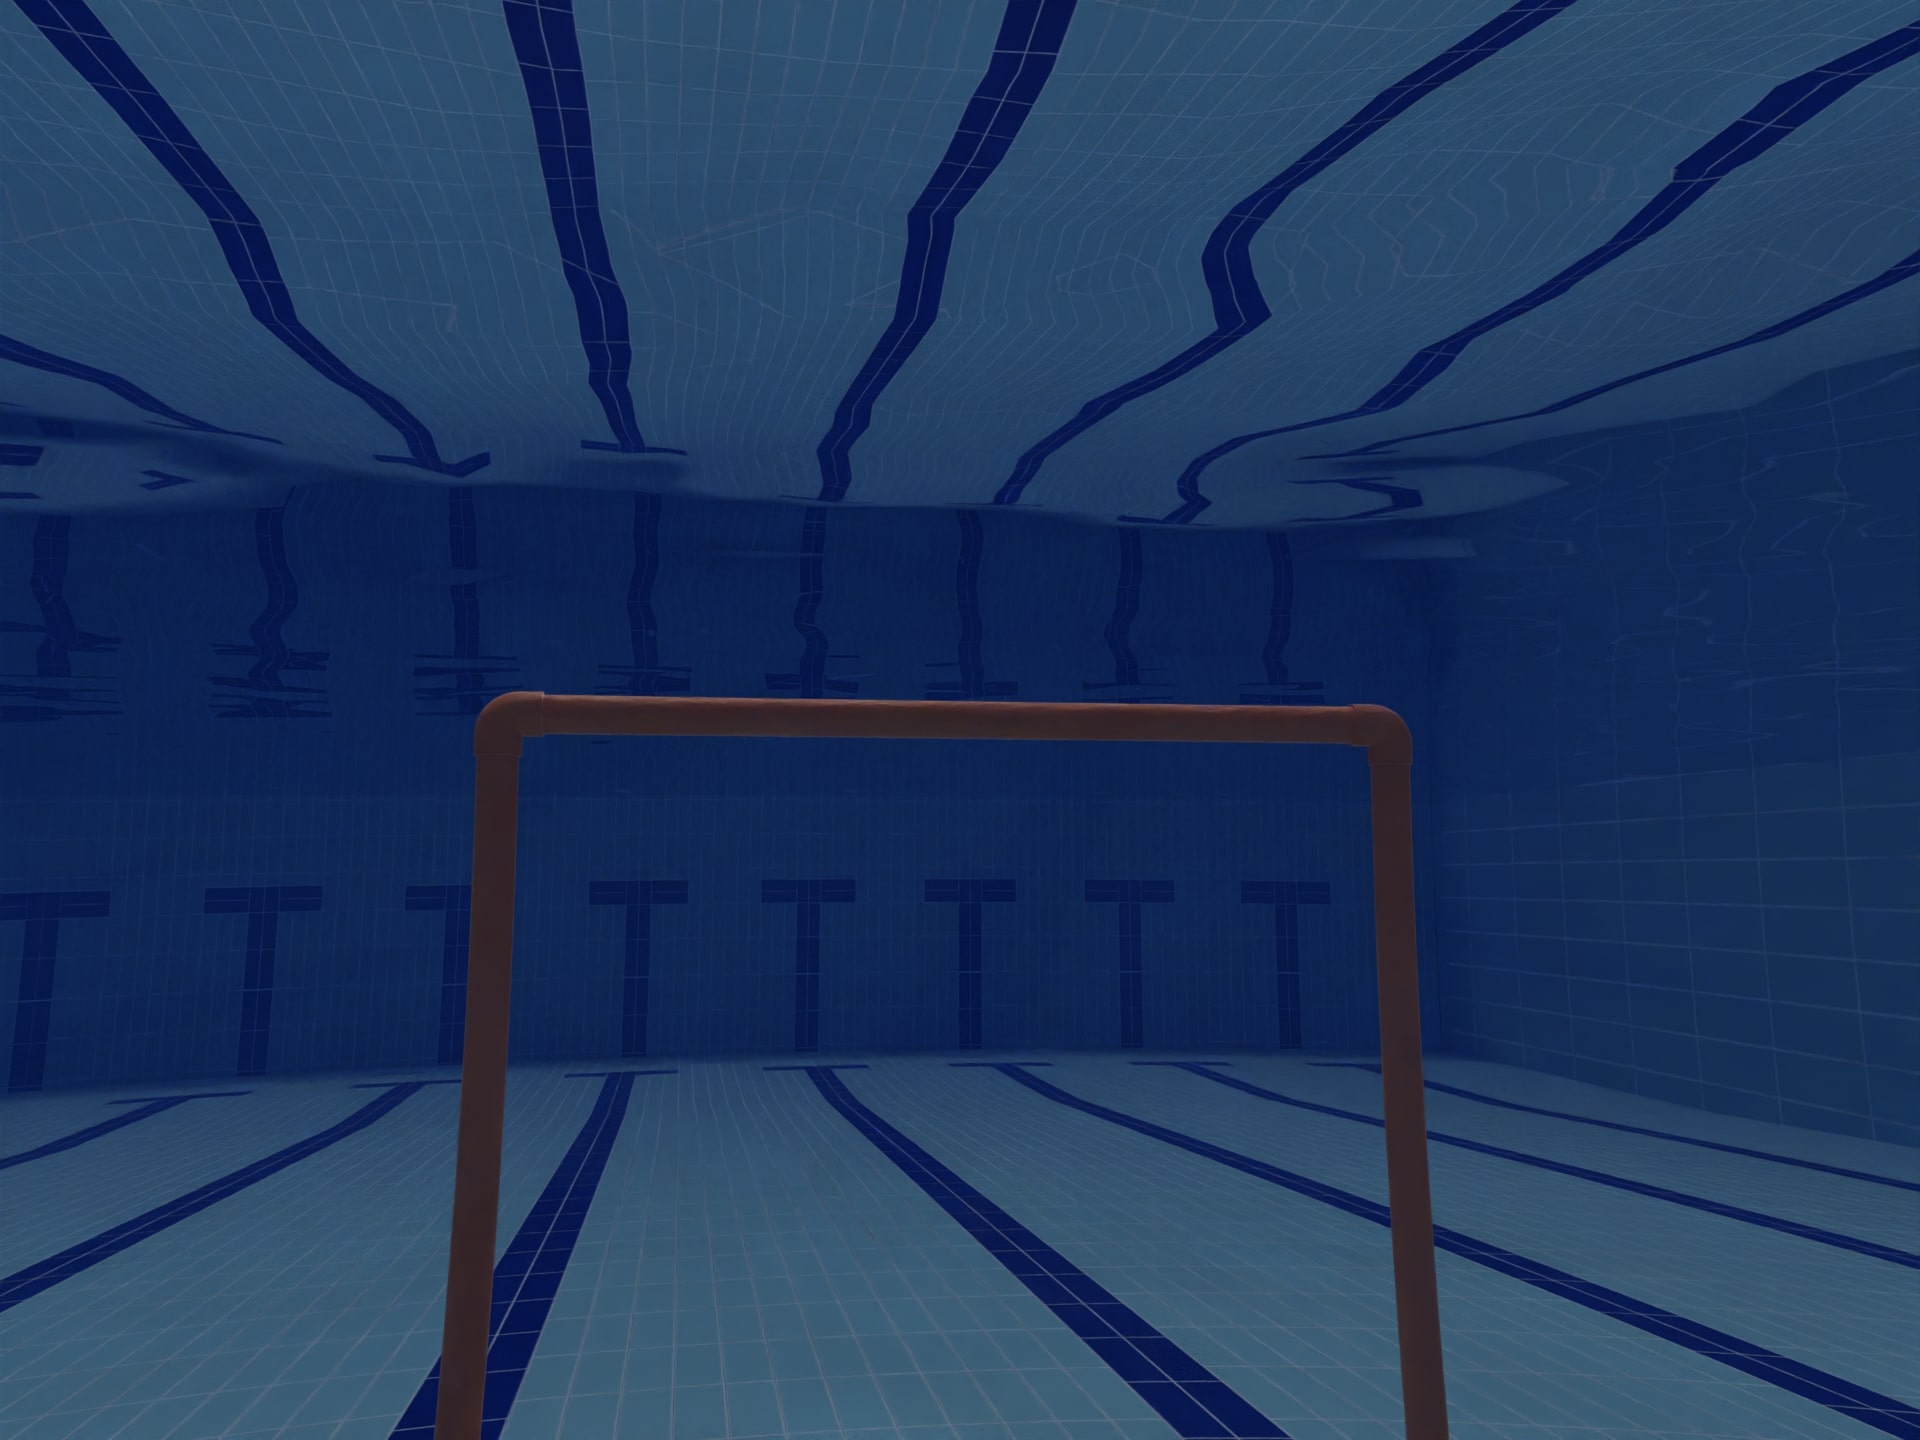gate: (395, 632, 1574, 1440)
